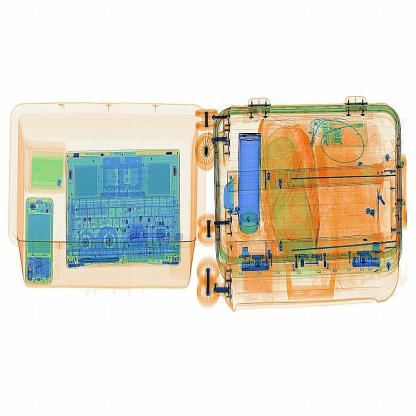wrench: (223, 163, 244, 225)
